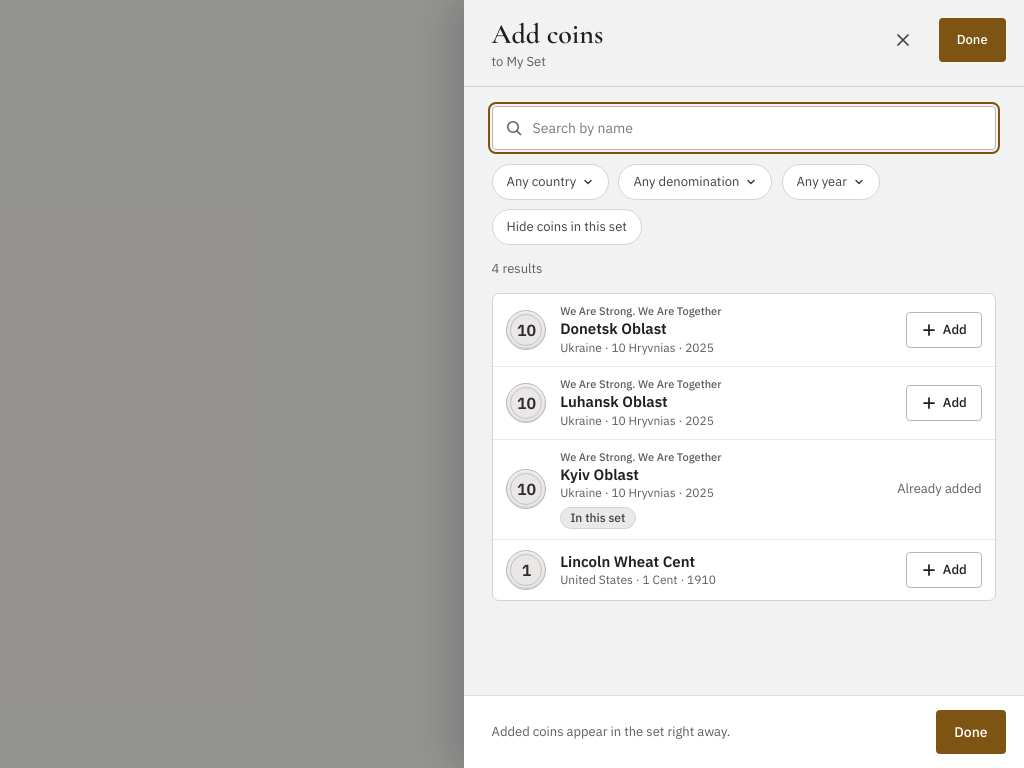
Scenario: AddCoinsSheet › criterion 4: Country / Denomination / Year chips › choosing Any country clears the country
Click the button with test id "add-coins-filter-country" at (550, 182), box [492,164,609,200]
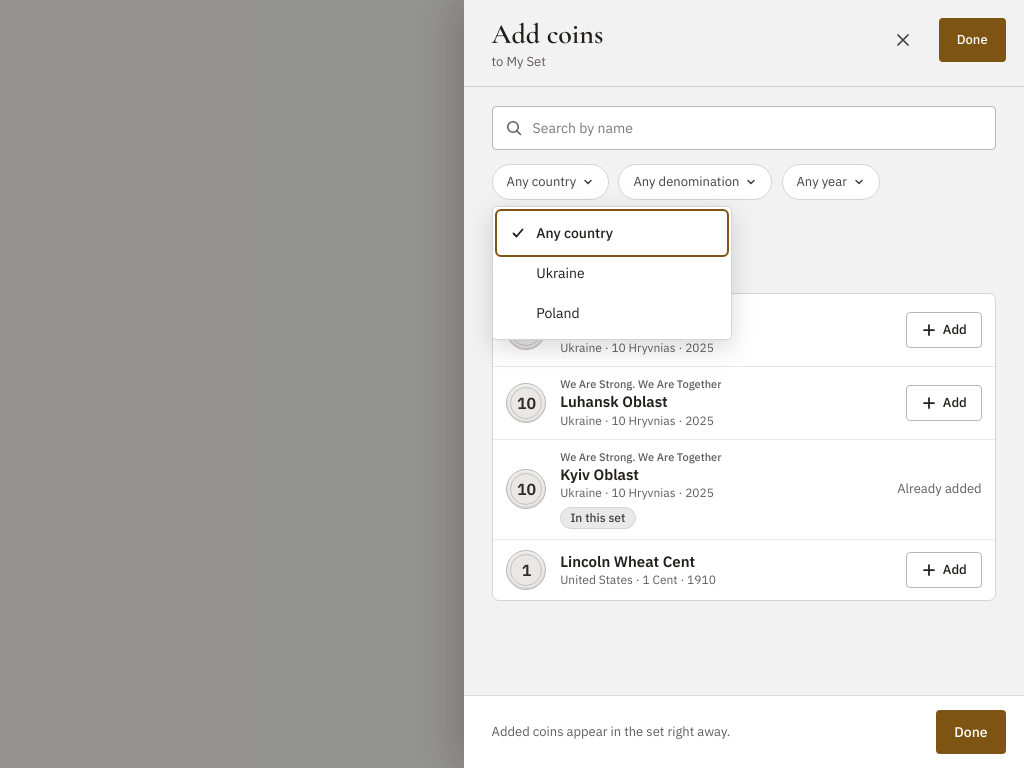
Click the menu item with test id "add-coins-country-option" at (612, 273), box [499,253,725,293]
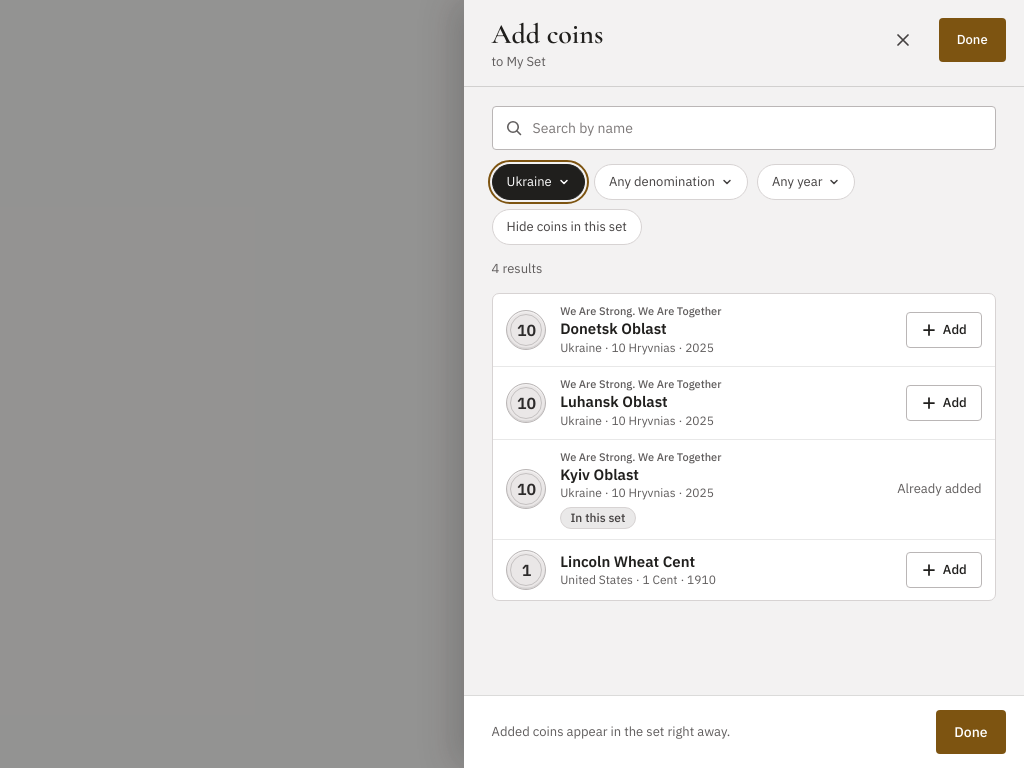
Now the button with test id "add-coins-filter-country" reads "Ukraine"
Click the button with test id "add-coins-filter-country" at (538, 182), box [492,164,585,200]
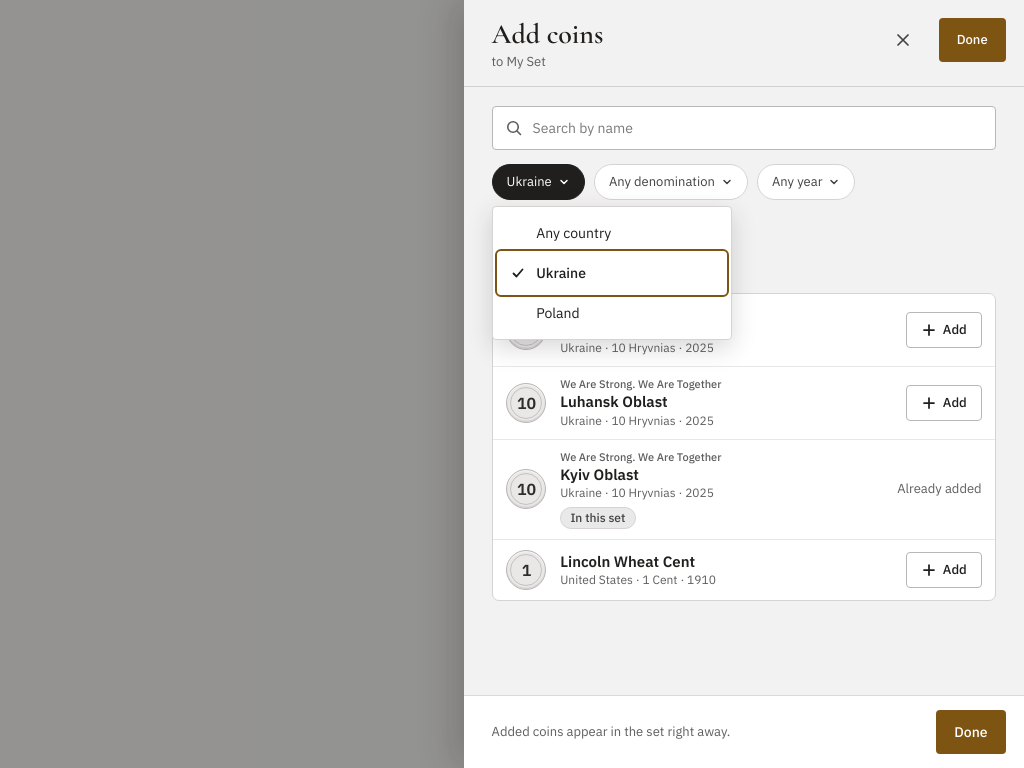
Click the menu item with test id "add-coins-country-option" at (612, 233), box [499,213,725,253]
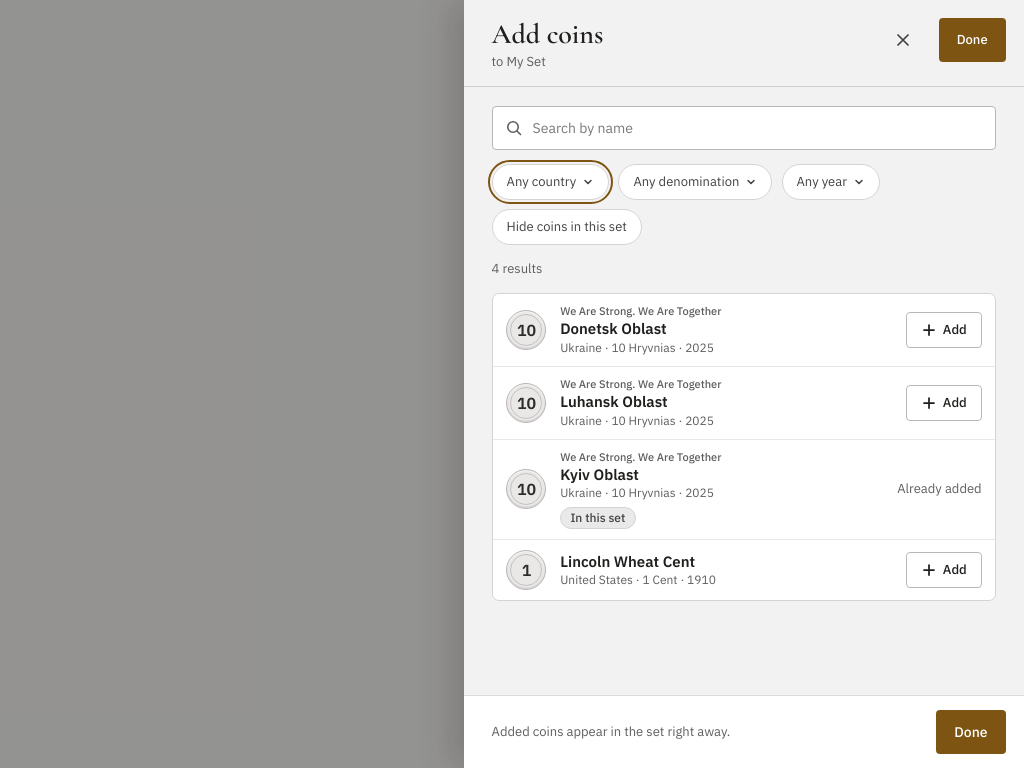
Now the button with test id "add-coins-filter-country" reads "Any country", box [492,164,609,200]
